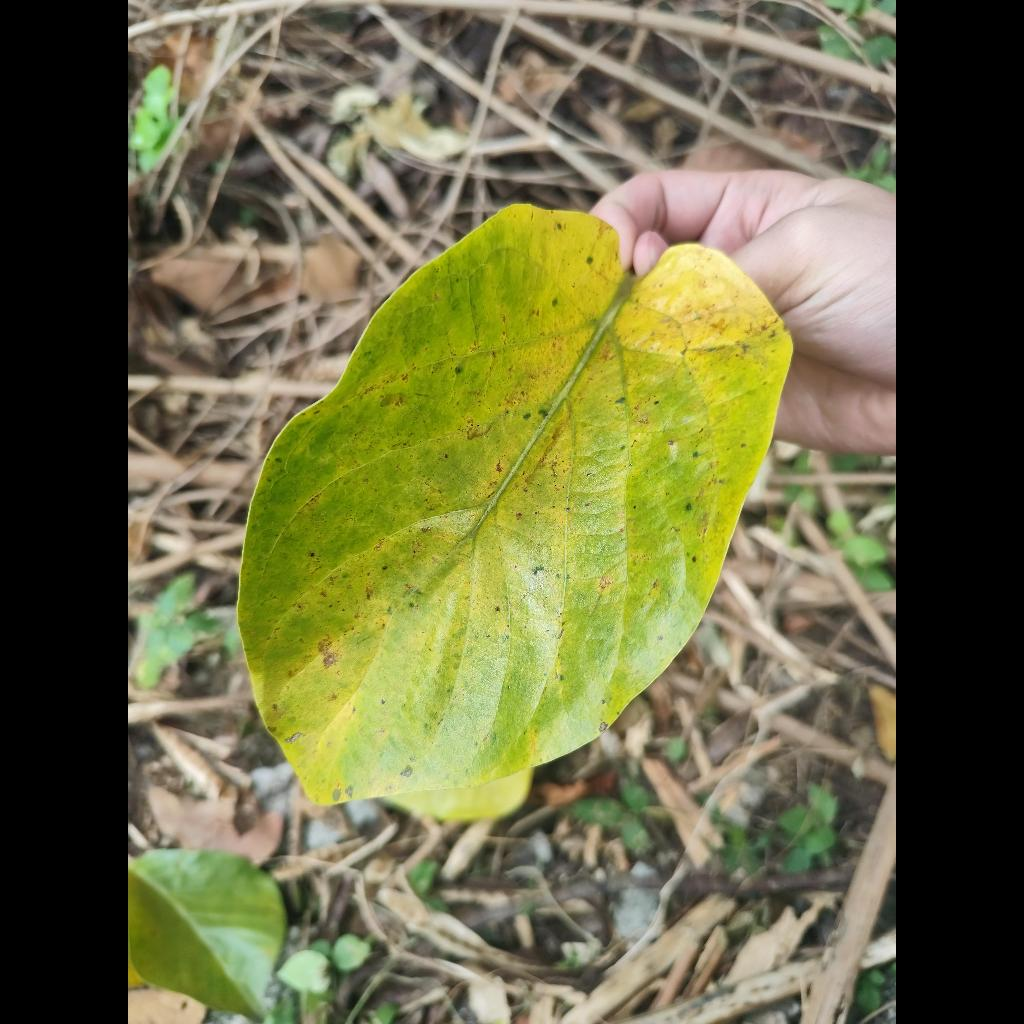nutrient_deficiency: (238, 206, 792, 807)
